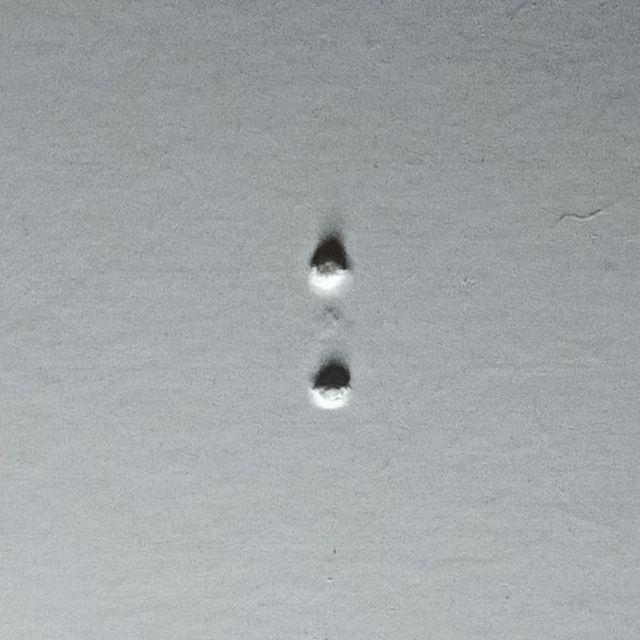kaya: (310, 245, 426, 409)
